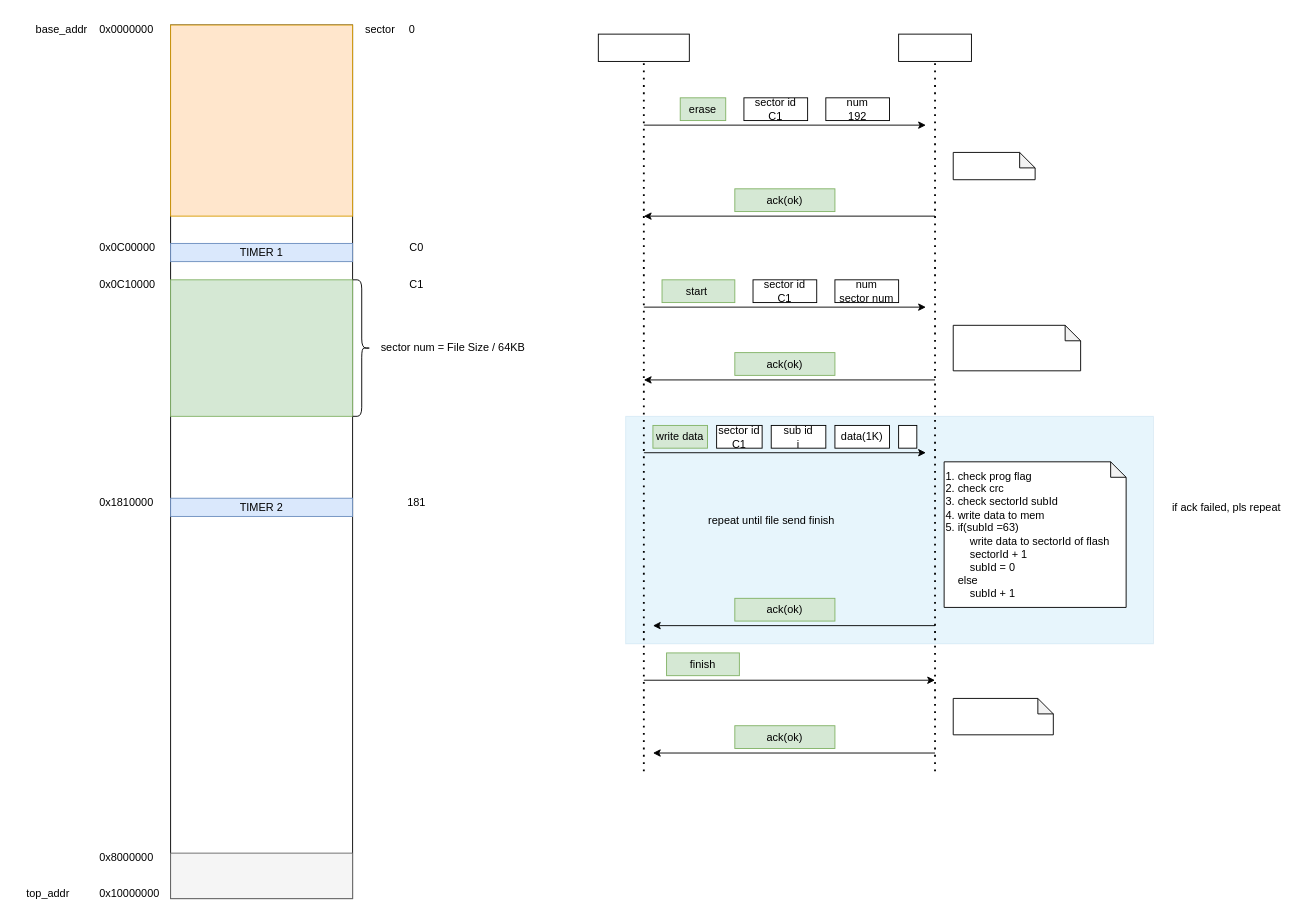
The diagram is 1305 pixels wide and 923 high, and some of its shapes have lost their labels. The centre of each missing label's shape, as x and y in pixels:
1. erase op: point (993, 166)
1. release mem 2. set prog flag 0: point (1002, 716)
1. request mem 2. set prog flag 1 3. sectorId(0) subId(0): point (1016, 347)
board: point (934, 47)
crc: point (907, 436)
GOLDEN: point (261, 120)
PC: point (643, 47)
sw parameter: point (261, 875)
USER: point (261, 347)
